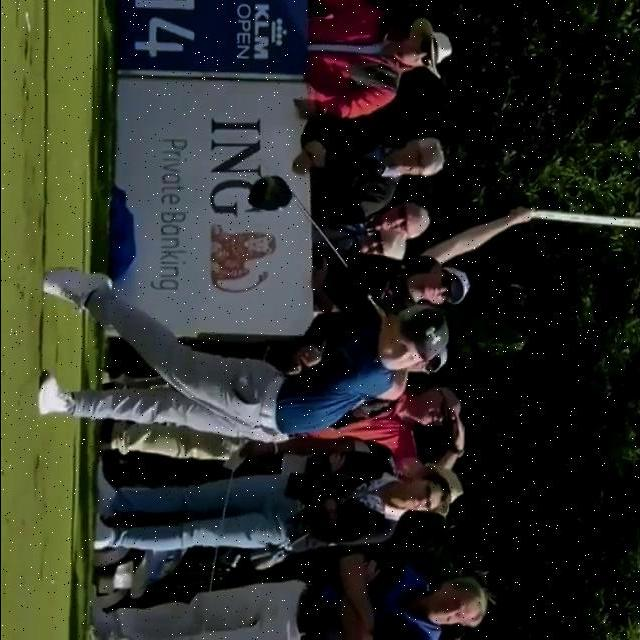golf club-handle: (244, 174, 388, 317)
golf club-head: (246, 173, 287, 214)
